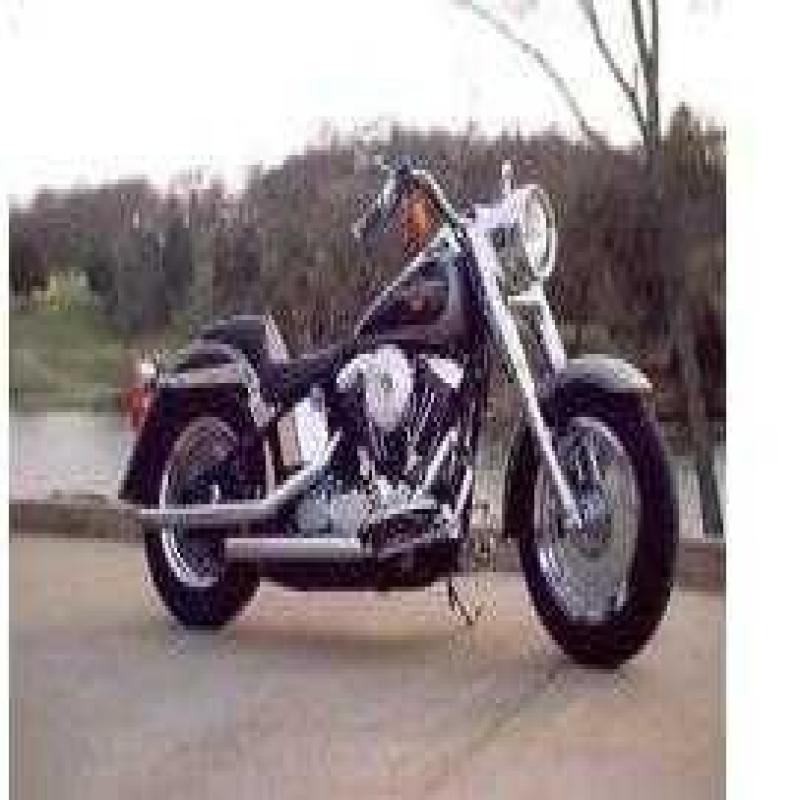bike: (84, 99, 683, 701)
